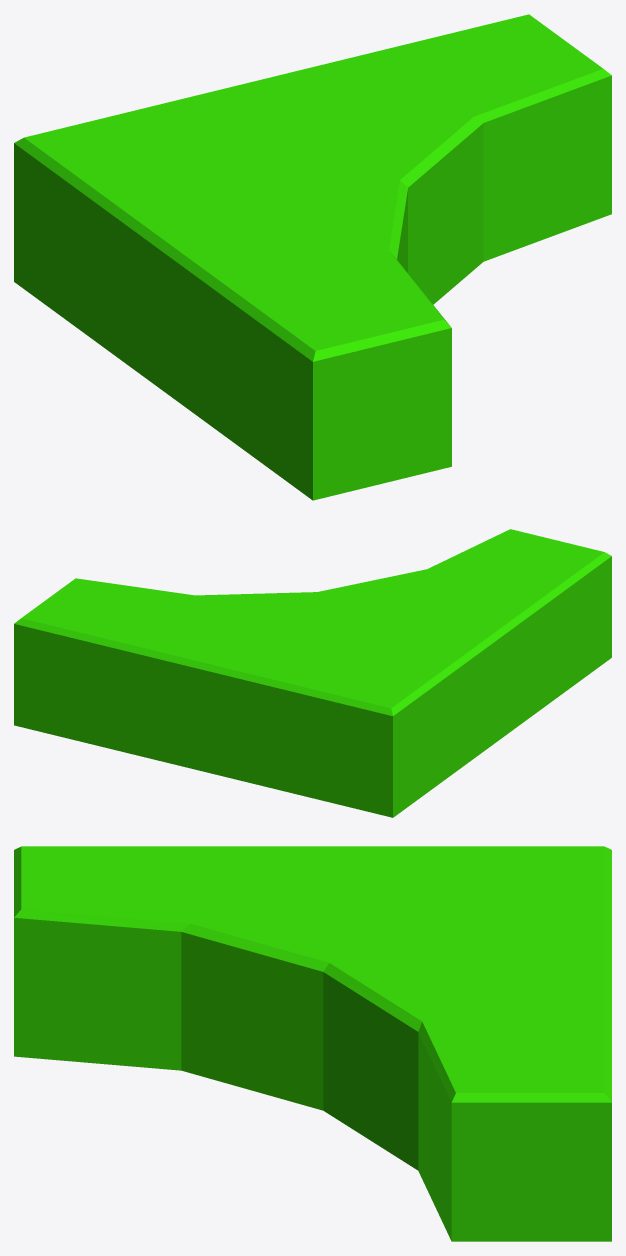
The model's file is round_4x1_03.fbx.
3 renders of one model, top to bottom at view 1: azimuth 30°, elevation 25°; view 2: azimuth 150°, elevation 25°; view 3: azimuth 270°, elevation 25°, orthographic. The views are drawn at different scales.
Parts seen in each view (by area): view 1: round_4x1_03; view 2: round_4x1_03; view 3: round_4x1_03.
Part boxes in pixels (x1,y1,x2,y2): round_4x1_03: (14,14,611,500); round_4x1_03: (14,529,611,817); round_4x1_03: (14,846,611,1241).
Size of the model in its own units: 410 by 110 by 410.
